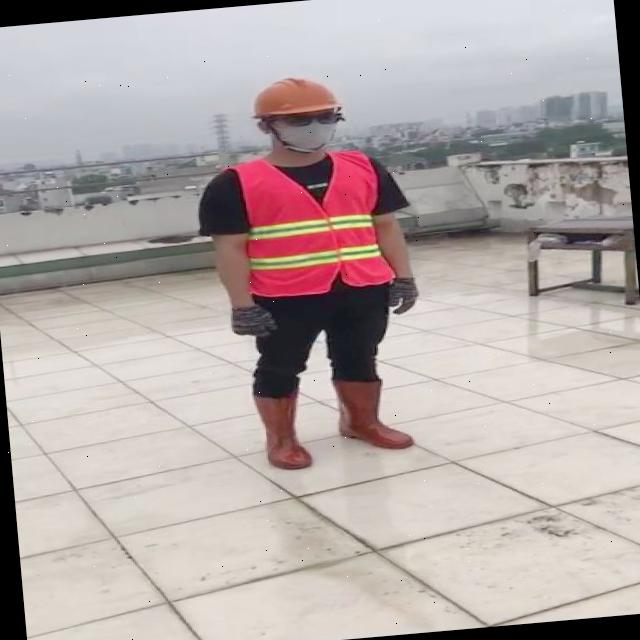boots: (329, 367, 418, 458), (246, 382, 321, 476)
